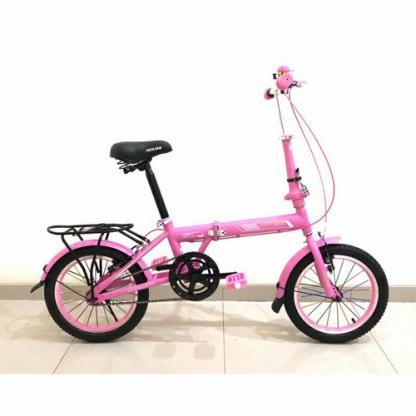Bike: (33, 63, 388, 348)
